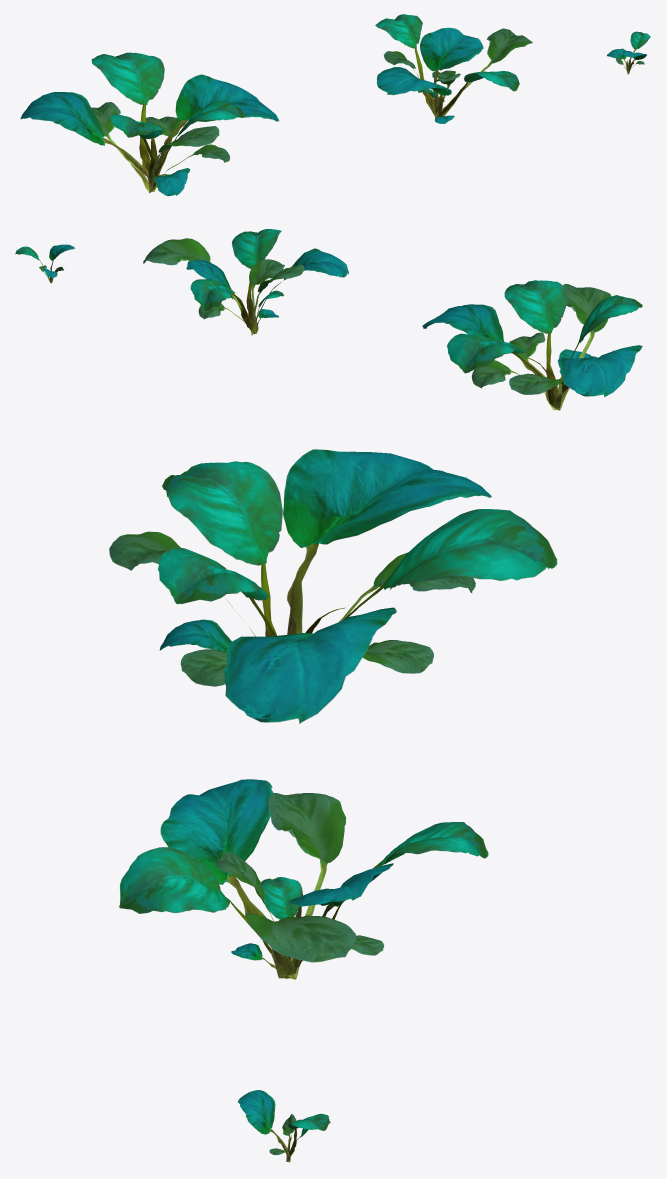
Rendered from plants_anubias.glb.
The picture shows the model from 3 angles, top to bottom: view 1: azimuth 30°, elevation 25°; view 2: azimuth 150°, elevation 25°; view 3: azimuth 270°, elevation 25°; orthographic projection. The views are drawn at different scales.
Visible parts, largest first — view 1: Anubias2_1, Anubias1_0, Plane.008_2; view 2: Anubias2_1, Anubias1_0, Plane.008_2; view 3: Anubias2_1, Anubias1_0, Plane.008_2.
Boxes of the visible parts, <box> form: Anubias2_1: <box>20,52,278,196</box>; Anubias1_0: <box>375,14,532,123</box>; Plane.008_2: <box>607,31,650,74</box>; Anubias2_1: <box>422,280,642,410</box>; Anubias1_0: <box>143,229,348,335</box>; Plane.008_2: <box>15,244,75,283</box>; Anubias2_1: <box>109,449,557,723</box>; Anubias1_0: <box>119,779,488,979</box>; Plane.008_2: <box>238,1090,330,1162</box>.
Size of the model in its own units: 6.34 by 1 by 2.12.
Materials: 3 (3 with a texture image).
